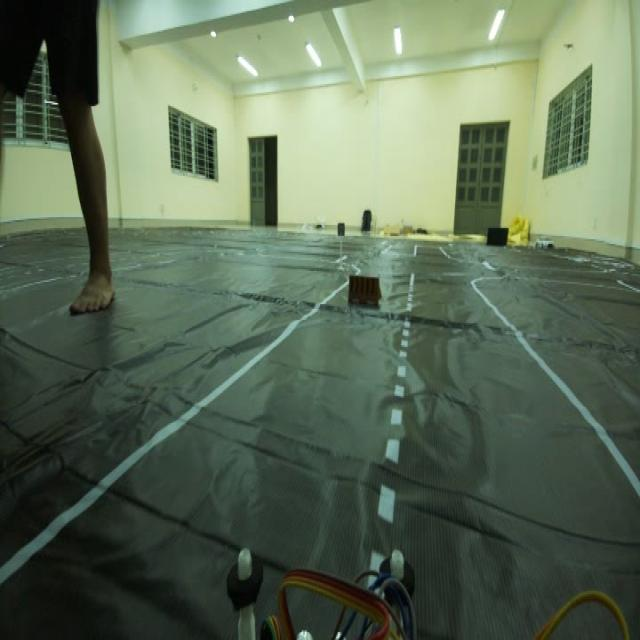roadblock: (345, 268, 386, 312)
